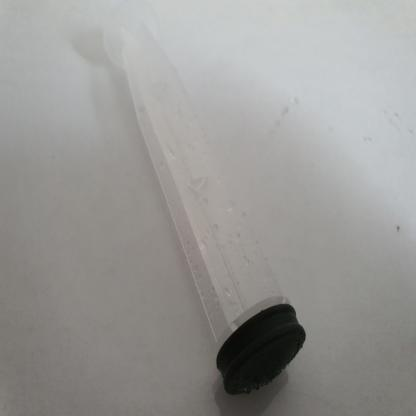wet: (93, 18, 306, 375)
